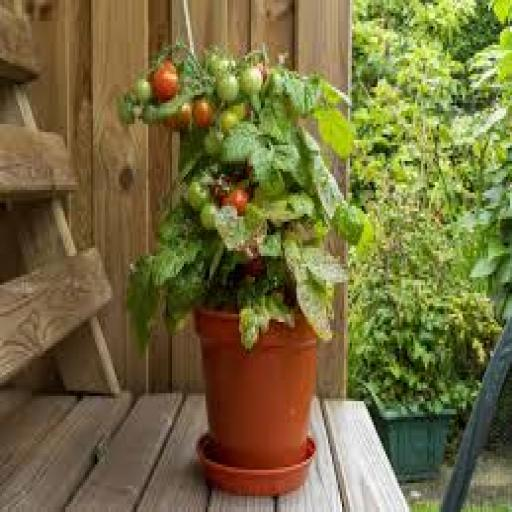tomato: (333, 204, 365, 245), (153, 64, 179, 100), (222, 188, 249, 213), (167, 103, 191, 131), (216, 74, 239, 102), (240, 66, 262, 95), (194, 98, 213, 129), (188, 183, 209, 211), (206, 53, 229, 76), (220, 111, 239, 134), (135, 77, 152, 102), (204, 130, 221, 155), (200, 204, 217, 229), (269, 69, 284, 95), (246, 256, 264, 277), (141, 103, 158, 124), (230, 103, 249, 121), (161, 59, 177, 73), (257, 64, 268, 81), (246, 164, 253, 179)
